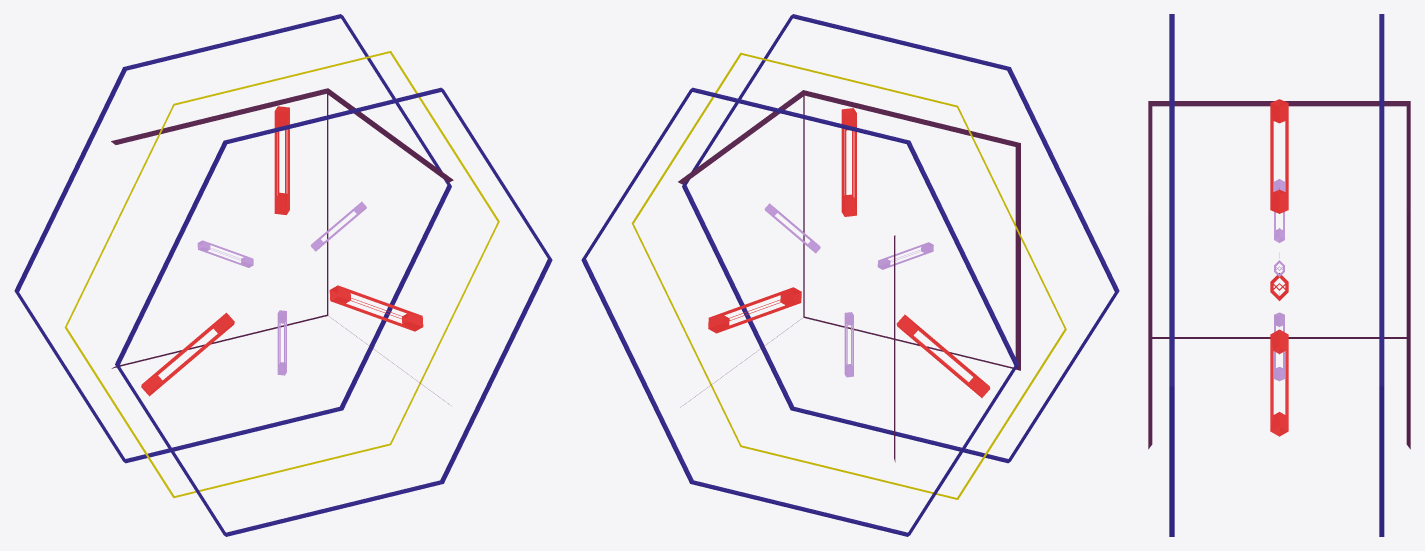
The model's file is spawn.glb.
3 views of the same model, side by side, from view 1: azimuth 30°, elevation 25°; view 2: azimuth 150°, elevation 25°; view 3: azimuth 270°, elevation 25° (orthographic). The views are drawn at different scales.
Parts seen in each view (by area): view 1: BoundaryHexBack, BoundaryHexFront, BoundaryHexMiddleWarning, Cube, LargeTriadTop, LargeTriadRight, LargeTriadLeft; view 2: BoundaryHexFront, BoundaryHexBack, Cube, BoundaryHexMiddleWarning, LargeTriadTop, LargeTriadRight, LargeTriadLeft; view 3: Cube, BoundaryHexFront, BoundaryHexBack, LargeTriadTop, LargeTriadRight, SmallTriadBottom, SmallTriadLeft.
Boxes of the visible parts, bbox=[...] form: BoundaryHexBack: bbox=[115, 87, 552, 536]; BoundaryHexFront: bbox=[14, 14, 451, 463]; BoundaryHexMiddleWarning: bbox=[64, 51, 499, 498]; Cube: bbox=[111, 88, 453, 404]; LargeTriadTop: bbox=[274, 106, 289, 214]; LargeTriadRight: bbox=[329, 285, 423, 331]; LargeTriadLeft: bbox=[141, 312, 234, 396]; BoundaryHexFront: bbox=[581, 87, 1018, 536]; BoundaryHexBack: bbox=[682, 14, 1119, 463]; Cube: bbox=[678, 90, 1020, 462]; BoundaryHexMiddleWarning: bbox=[631, 52, 1066, 499]; LargeTriadTop: bbox=[841, 108, 856, 216]; LargeTriadRight: bbox=[708, 287, 801, 333]; LargeTriadLeft: bbox=[896, 314, 990, 397]; Cube: bbox=[1148, 101, 1410, 449]; BoundaryHexFront: bbox=[1379, 14, 1384, 536]; BoundaryHexBack: bbox=[1169, 14, 1174, 536]; LargeTriadTop: bbox=[1270, 99, 1288, 213]; LargeTriadRight: bbox=[1270, 329, 1288, 436]; SmallTriadBottom: bbox=[1274, 312, 1284, 381]; SmallTriadLeft: bbox=[1274, 179, 1284, 242].
Bounding box in the file's own units: 2 × 1.73 × 1.
